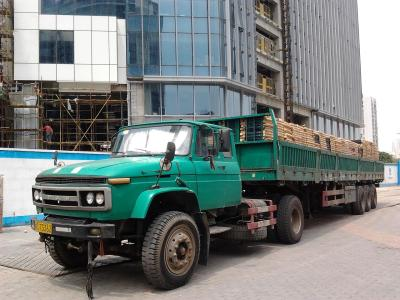truck: (34, 108, 383, 224)
